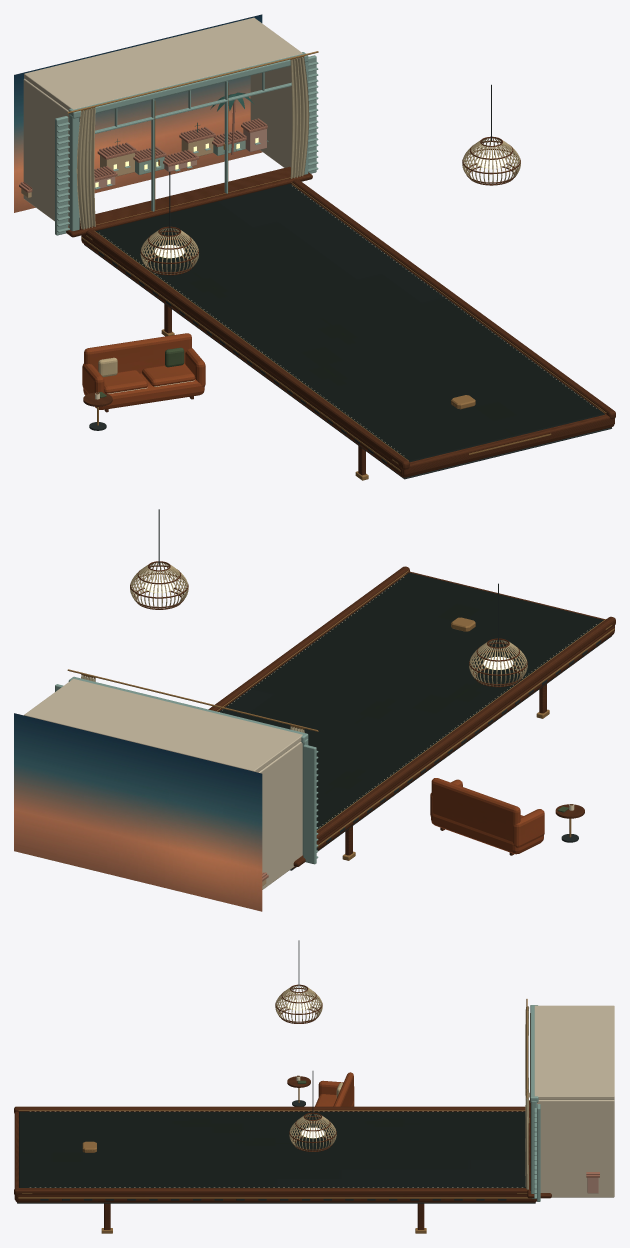
Rendered from afterhours-playfield.glb.
The picture shows the model from 3 angles, top to bottom: view 1: azimuth 30°, elevation 25°; view 2: azimuth 150°, elevation 25°; view 3: azimuth 270°, elevation 25°; orthographic projection. The views are drawn at different scales.
Visible parts, largest first — view 1: board | PS | Deep olive woven deck.003, entrance | PS | Window warm plaster, board | PS | Oiled walnut.003, entrance | PS | Window dusk sky, entrance | PS | Window aged celadon, lounge | PS | Cinnamon boucle.003, entrance | PS | Window linen, entrance | PS | Oiled walnut.003, lounge | PS | Oatmeal linen.003, entrance | PS | Dusk terracotta roofs, board | PS | Satin champagne brass.003, lounge | PS | Oiled walnut.003 (+4 smaller); view 2: board | PS | Deep olive woven deck.003, entrance | PS | Window dusk sky, entrance | PS | Window warm plaster, board | PS | Oiled walnut.003, lounge | PS | Cinnamon boucle.003, lounge | PS | Oatmeal linen.003, entrance | PS | Window aged celadon, board | PS | Satin champagne brass.003, lounge | PS | Oiled walnut.003, board | PS | Soft charcoal.003, entrance | PS | Satin champagne brass.003; view 3: board | PS | Deep olive woven deck.003, entrance | PS | Window warm plaster, board | PS | Oiled walnut.003, lounge | PS | Oatmeal linen.003, board | PS | Satin champagne brass.003, entrance | PS | Window aged celadon, board | PS | Soft charcoal.003, lounge | PS | Oiled walnut.003, lounge | PS | Cinnamon boucle.003, entrance | PS | Window linen, entrance | PS | Oiled walnut.003.
Boxes of the visible parts, x1,y1,x2,y2 form: board | PS | Deep olive woven deck.003: (95, 183, 604, 462); entrance | PS | Window warm plaster: (23, 17, 302, 226); board | PS | Oiled walnut.003: (81, 179, 615, 477); entrance | PS | Window dusk sky: (14, 14, 262, 212); entrance | PS | Window aged celadon: (55, 52, 318, 235); lounge | PS | Cinnamon boucle.003: (82, 333, 205, 409); entrance | PS | Window linen: (76, 57, 309, 229); entrance | PS | Oiled walnut.003: (66, 117, 312, 237); lounge | PS | Oatmeal linen.003: (98, 138, 520, 377); entrance | PS | Dusk terracotta roofs: (19, 100, 267, 192); board | PS | Satin champagne brass.003: (81, 182, 606, 480); lounge | PS | Oiled walnut.003: (83, 136, 520, 412); board | PS | Deep olive woven deck.003: (219, 572, 603, 829); entrance | PS | Window dusk sky: (14, 713, 262, 911); entrance | PS | Window warm plaster: (24, 678, 302, 889); board | PS | Oiled walnut.003: (208, 566, 615, 868); lounge | PS | Cinnamon boucle.003: (430, 778, 544, 854); lounge | PS | Oatmeal linen.003: (130, 562, 527, 686); entrance | PS | Window aged celadon: (55, 676, 318, 864); board | PS | Satin champagne brass.003: (216, 570, 614, 860); lounge | PS | Oiled walnut.003: (130, 561, 584, 855); board | PS | Soft charcoal.003: (290, 636, 611, 870); entrance | PS | Satin champagne brass.003: (67, 669, 318, 731); board | PS | Deep olive woven deck.003: (19, 1111, 525, 1187); entrance | PS | Window warm plaster: (534, 1005, 614, 1197); board | PS | Oiled walnut.003: (14, 1106, 536, 1229); lounge | PS | Oatmeal linen.003: (275, 986, 342, 1151); board | PS | Satin champagne brass.003: (18, 1110, 530, 1233); entrance | PS | Window aged celadon: (530, 1005, 540, 1201); board | PS | Soft charcoal.003: (17, 1199, 535, 1203); lounge | PS | Oiled walnut.003: (275, 984, 336, 1151); lounge | PS | Cinnamon boucle.003: (315, 1072, 354, 1106); entrance | PS | Window linen: (525, 1006, 529, 1189); entrance | PS | Oiled walnut.003: (527, 1013, 551, 1198).
Size of the model in its own units: 23.59 by 12.21 by 34.53.
Materials: 23 (9 with a texture image).
